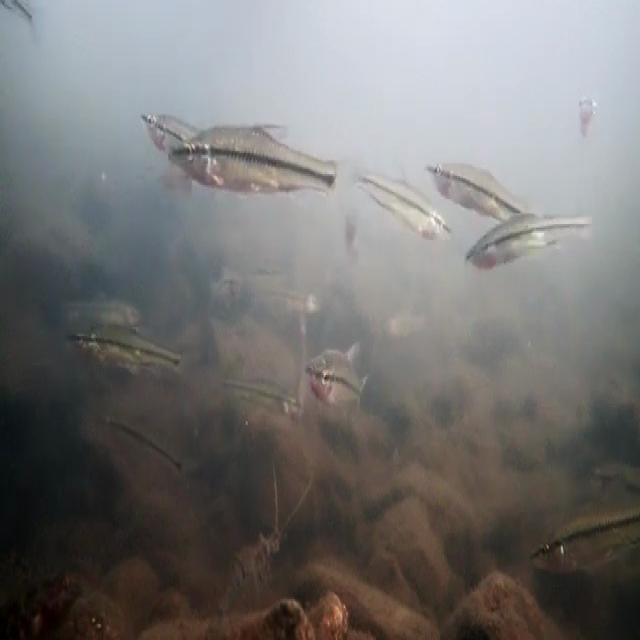Cakil Baligi: (169, 121, 363, 221), (524, 512, 640, 580), (61, 320, 192, 374), (308, 335, 377, 418)
